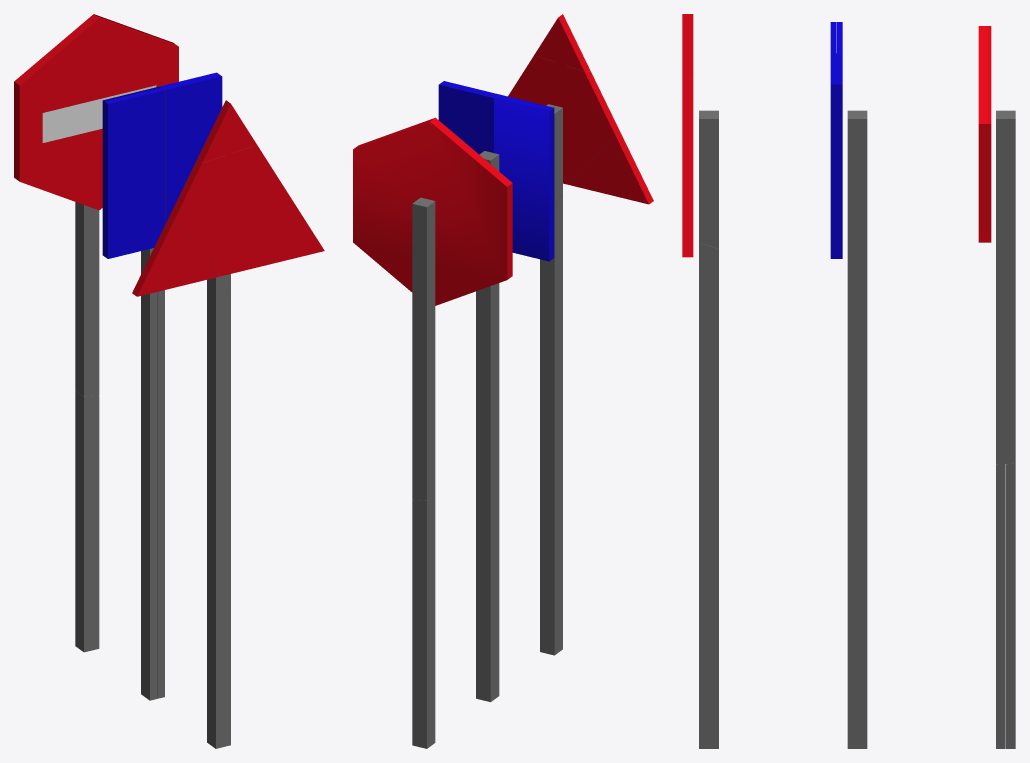
Rendered from railroad_signs (1).fbx.
3 views of the same model, side by side, from view 1: azimuth 30°, elevation 25°; view 2: azimuth 150°, elevation 25°; view 3: azimuth 270°, elevation 25° (orthographic). The views are drawn at different scales.
Parts seen in each view (by area): view 1: sign1_cell.003, sign2_cell.004, sign2_cell, sign3_cell, sign3_cell.002, sign1_cell.002, sign3_cell.003, sign1_cell, sign2_cell.003, sign3_cell.001, sign2_cell.001, sign1_cell.001 (+1 smaller); view 2: sign1_cell.003, sign2_cell, sign3_cell.004, sign3_cell.002, sign1_cell, sign2_cell.004, sign1_cell.001, sign3_cell.001, sign3_cell.003, sign2_cell.003, sign2_cell.001, sign1_cell.002 (+2 smaller); view 3: sign3_cell.001, sign2_cell, sign1_cell, sign1_cell.003, sign1_cell.001, sign1_cell.002, sign2_cell.002, sign3_cell.003, sign2_cell.004, sign2_cell.001.
Boxes of the visible parts, <box> form: sign1_cell.003: <box>14,14,178,210</box>; sign2_cell.004: <box>167,145,324,276</box>; sign2_cell: <box>207,278,230,748</box>; sign3_cell: <box>105,88,165,258</box>; sign3_cell.002: <box>141,248,157,700</box>; sign1_cell.002: <box>79,394,99,652</box>; sign3_cell.003: <box>160,72,222,223</box>; sign1_cell: <box>75,202,99,396</box>; sign2_cell.003: <box>132,221,220,296</box>; sign3_cell.001: <box>157,290,164,698</box>; sign2_cell.001: <box>199,100,256,163</box>; sign1_cell.001: <box>75,390,79,648</box>; sign1_cell.003: <box>353,117,512,305</box>; sign2_cell: <box>540,194,562,655</box>; sign3_cell.004: <box>494,96,551,261</box>; sign3_cell.002: <box>483,152,499,702</box>; sign1_cell: <box>412,197,435,500</box>; sign2_cell.004: <box>508,55,618,184</box>; sign1_cell.001: <box>412,498,431,748</box>; sign3_cell.001: <box>476,151,491,700</box>; sign3_cell.003: <box>438,81,498,154</box>; sign2_cell.003: <box>570,129,653,204</box>; sign2_cell.001: <box>534,14,590,71</box>; sign1_cell.002: <box>431,496,435,745</box>; sign3_cell.001: <box>847,114,867,748</box>; sign2_cell: <box>699,242,718,748</box>; sign1_cell: <box>996,110,1015,464</box>; sign1_cell.003: <box>978,26,991,242</box>; sign1_cell.001: <box>1006,463,1015,748</box>; sign1_cell.002: <box>996,464,1005,748</box>; sign2_cell.002: <box>699,110,718,248</box>; sign3_cell.003: <box>830,53,842,258</box>; sign2_cell.004: <box>682,78,693,257</box>; sign2_cell.001: <box>682,14,693,81</box>.
Bounding box in the file's own units: 329 × 1086 × 449.
